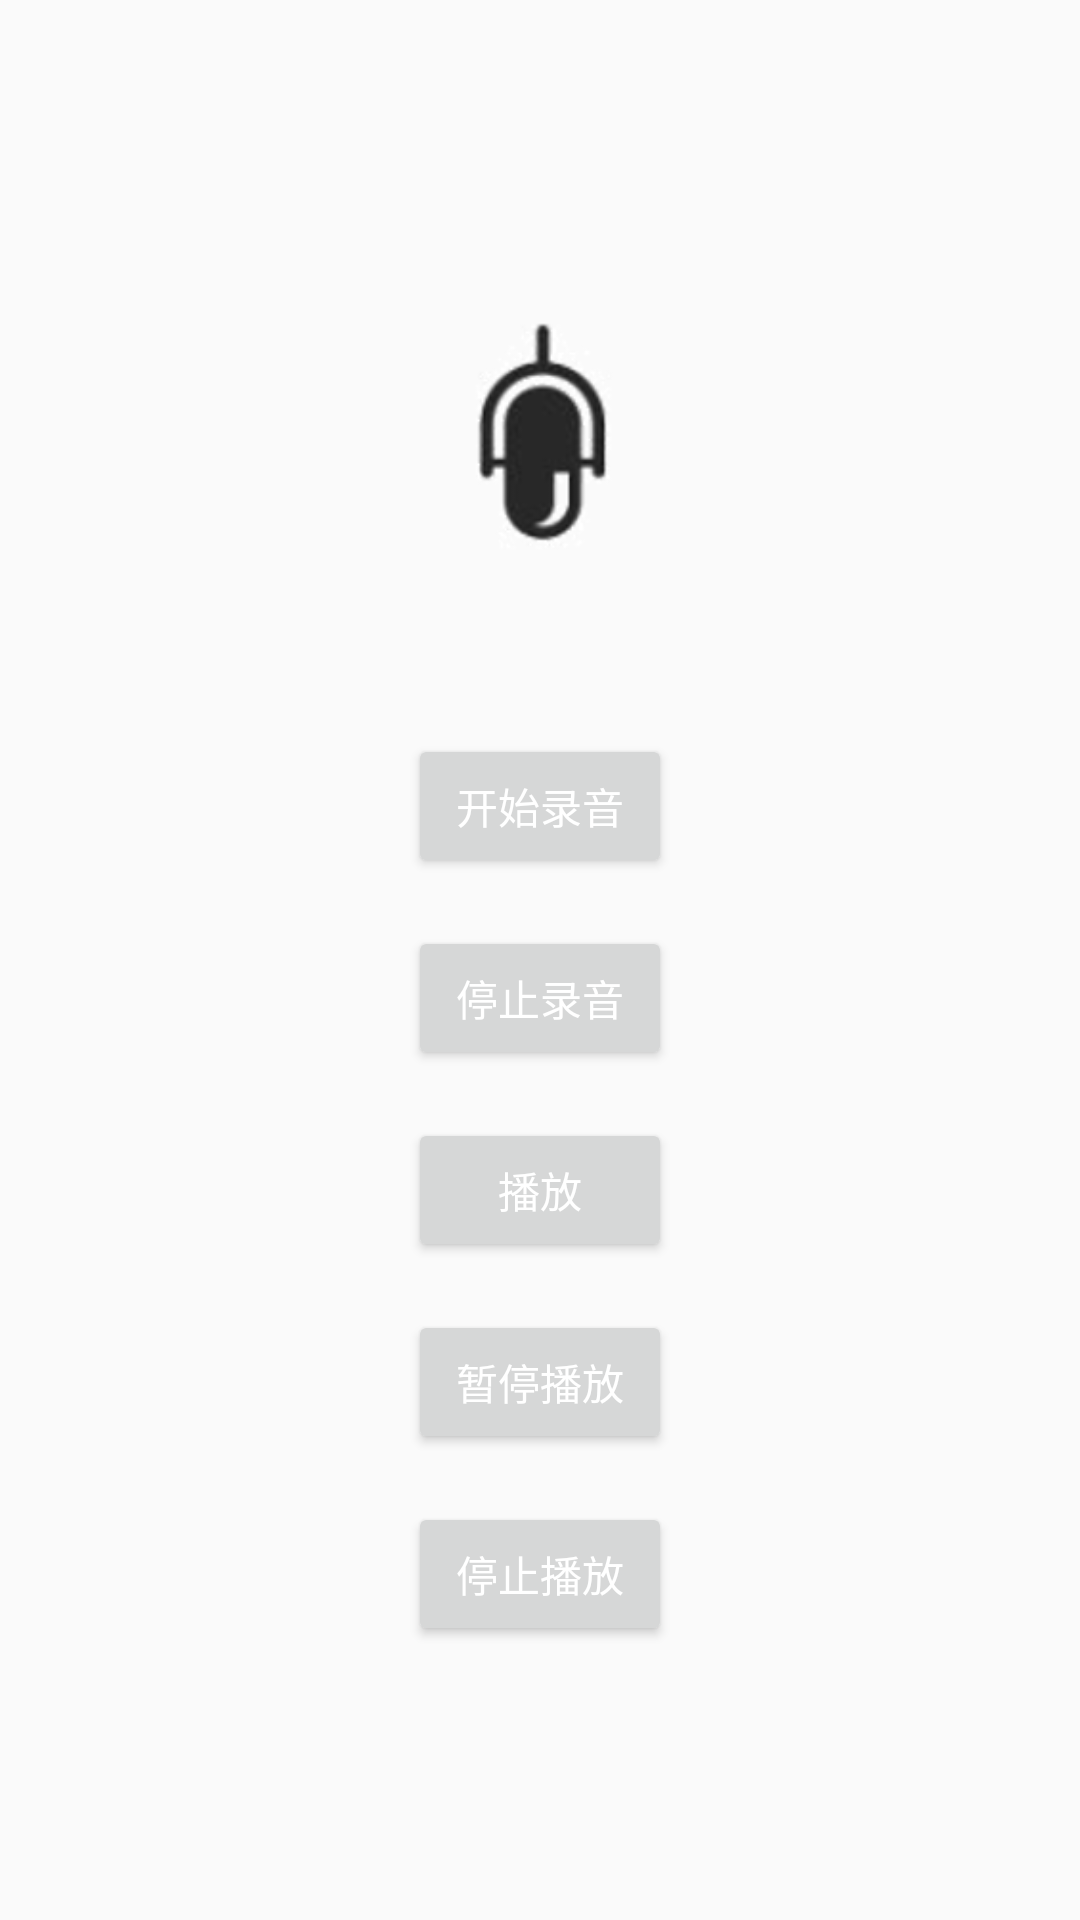

Named icons in this screenshot (1080 × 1920) and their centers, [x,y]:
voice: [542,432]
